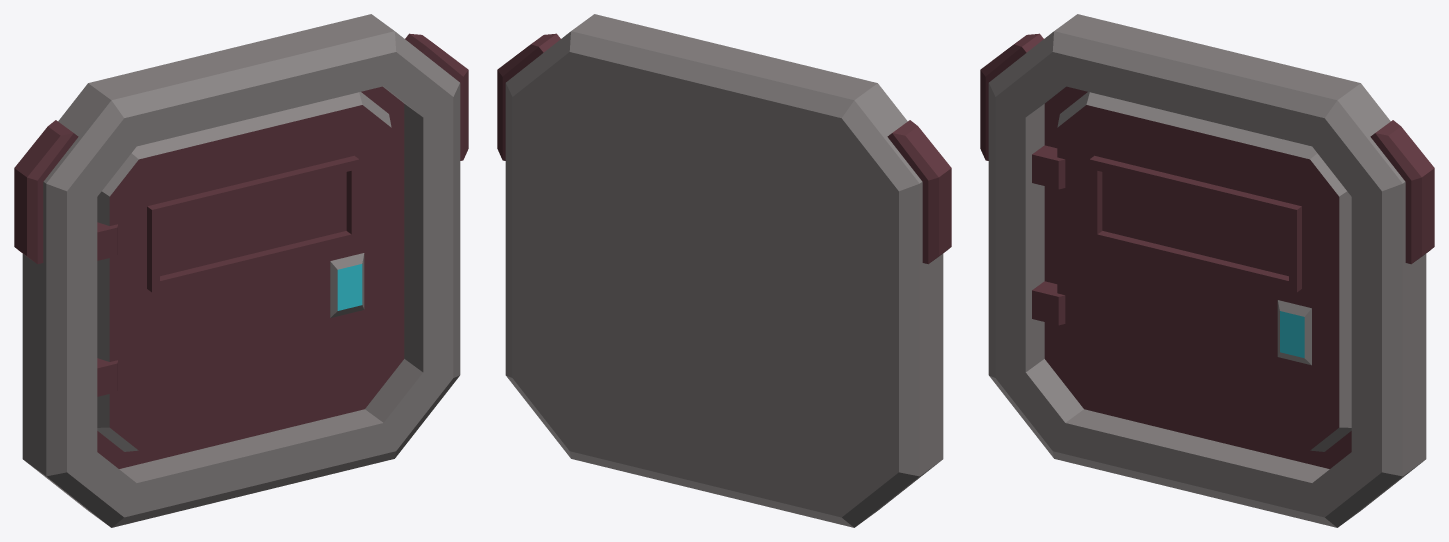
File: scifi-planet-base-door.fbx
3 views of the same model, side by side, from view 1: azimuth 30°, elevation 25°; view 2: azimuth 150°, elevation 25°; view 3: azimuth 330°, elevation 25° (orthographic).
Parts seen in each view (by area): view 1: scifi-planet-base-door; view 2: scifi-planet-base-door; view 3: scifi-planet-base-door.
Boxes of the visible parts, x1,y1,x2,y2 form: scifi-planet-base-door: (14, 14, 468, 527); scifi-planet-base-door: (497, 14, 951, 527); scifi-planet-base-door: (980, 14, 1434, 527).
Bounding box in the file's own units: 3.4 × 3.15 × 0.5004.
